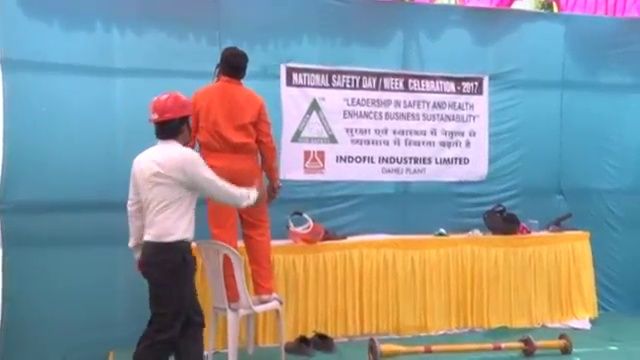helmet: (149, 89, 195, 124)
helmet_off: (213, 46, 251, 83)
helmet_on: (148, 88, 195, 147)
person: (126, 87, 264, 360), (185, 45, 293, 307)
